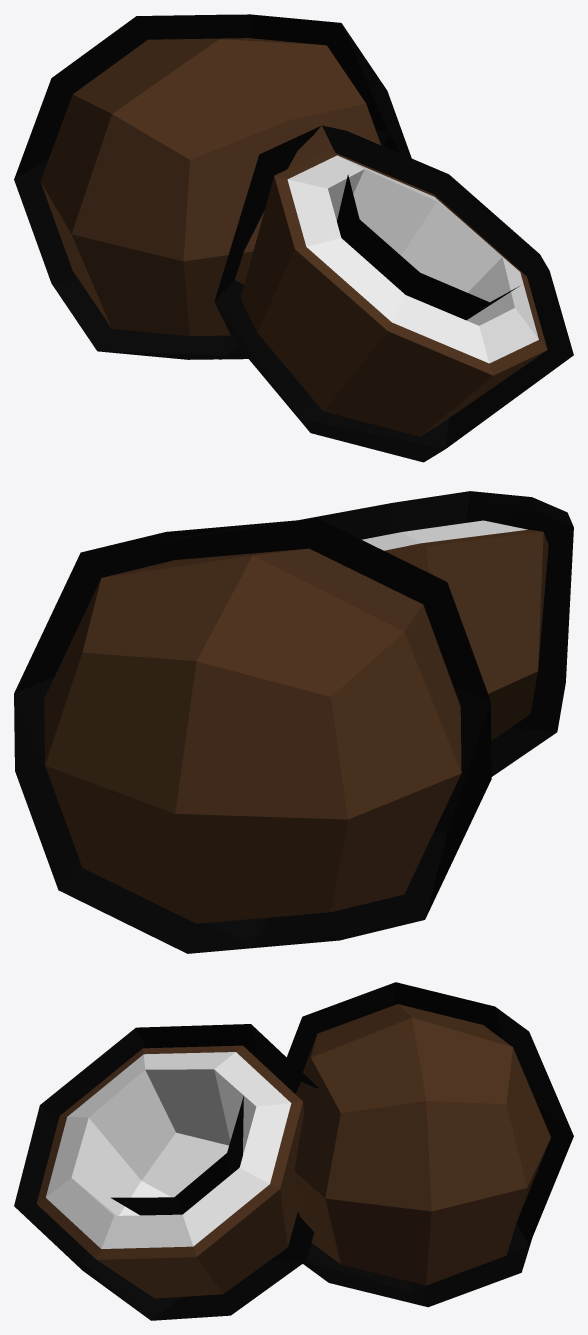
File: coconut.fbx
3 views of the same model, one above another, from view 1: azimuth 30°, elevation 25°; view 2: azimuth 150°, elevation 25°; view 3: azimuth 270°, elevation 25° (orthographic). The views are drawn at different scales.
Visible parts, largest first — view 1: CoconutHalf; view 2: CoconutHalf; view 3: CoconutHalf.
Boxes of the visible parts, box(x1,y1,x2,y2) form: CoconutHalf: box(14, 14, 573, 462); CoconutHalf: box(14, 491, 573, 953); CoconutHalf: box(14, 982, 573, 1320).
Bounding box in the file's own units: 83.24 × 70.69 × 121.
